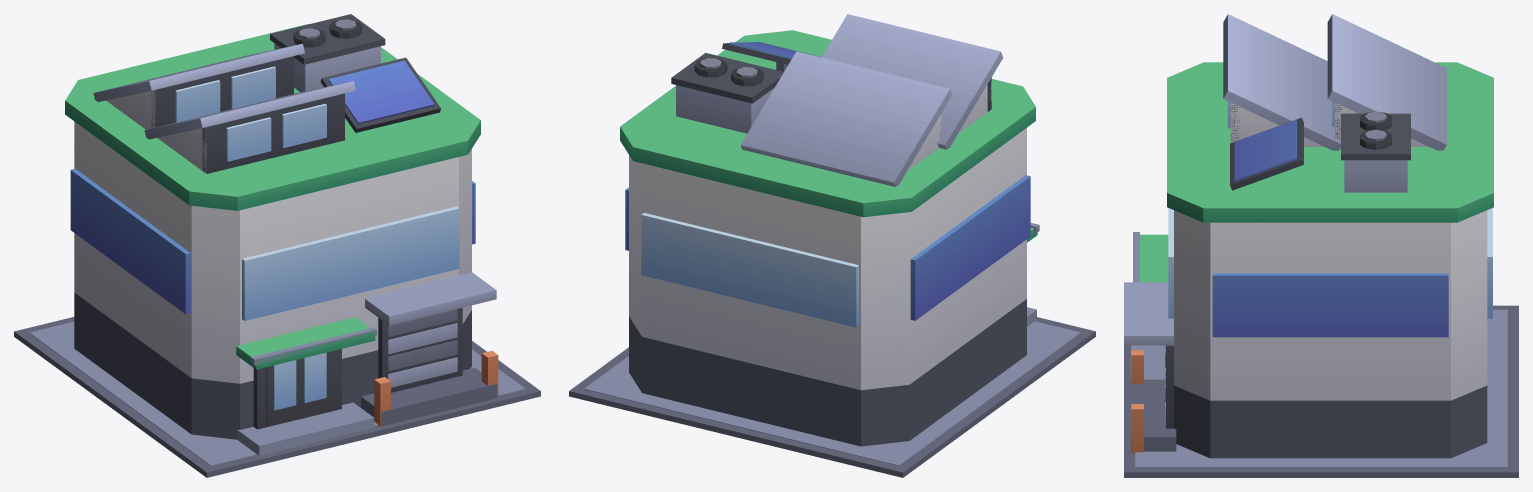
File: ind_precision_lab_1x1.glb
3 renders of one model, left to right at view 1: azimuth 30°, elevation 25°; view 2: azimuth 150°, elevation 25°; view 3: azimuth 270°, elevation 25°, orthographic. The views are drawn at different scales.
Parts seen in each view (by area): view 1: ind_precision_lab_1x1; view 2: ind_precision_lab_1x1; view 3: ind_precision_lab_1x1.
Part boxes in pixels (x1,y1,x2,y2): ind_precision_lab_1x1: (14, 14, 540, 477); ind_precision_lab_1x1: (569, 14, 1095, 477); ind_precision_lab_1x1: (1124, 14, 1518, 477).
Bounding box in the file's own units: 1.74 × 1.55 × 1.74.
Materials: 1 (1 with a texture image).
